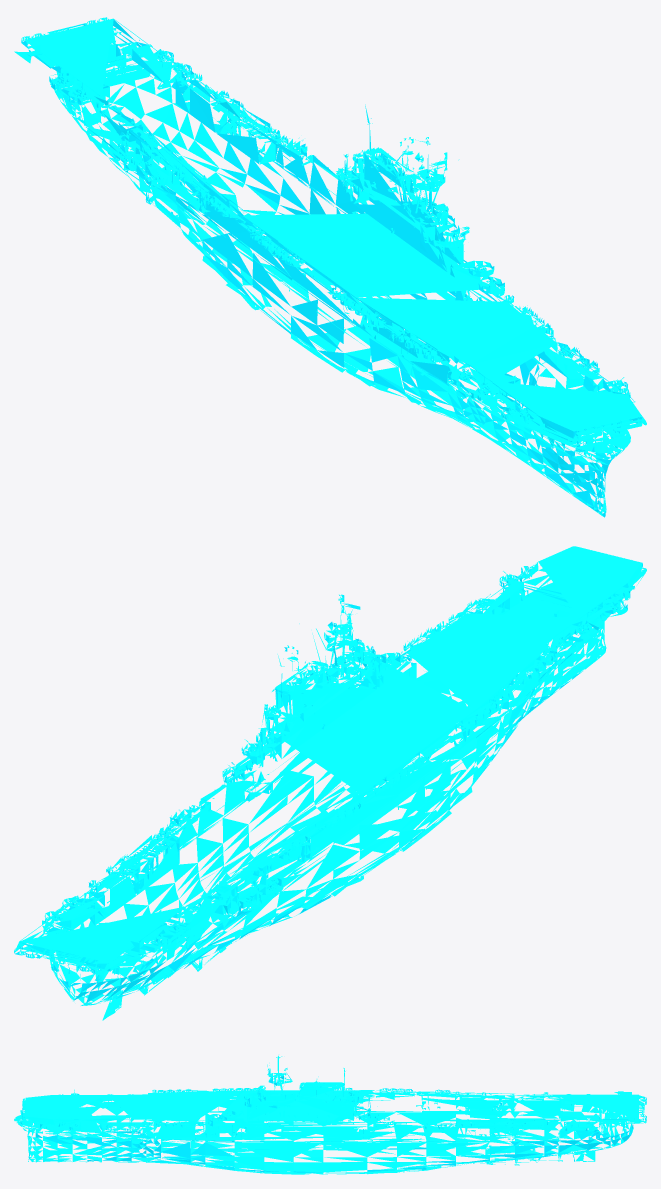
The model's file is Yorktown.glb.
The picture shows the model from 3 angles, top to bottom: view 1: azimuth 30°, elevation 25°; view 2: azimuth 150°, elevation 25°; view 3: azimuth 270°, elevation 25°; orthographic projection. The views are drawn at different scales.
Size of the model in its own units: 2.63 by 3.63 by 16.79.
